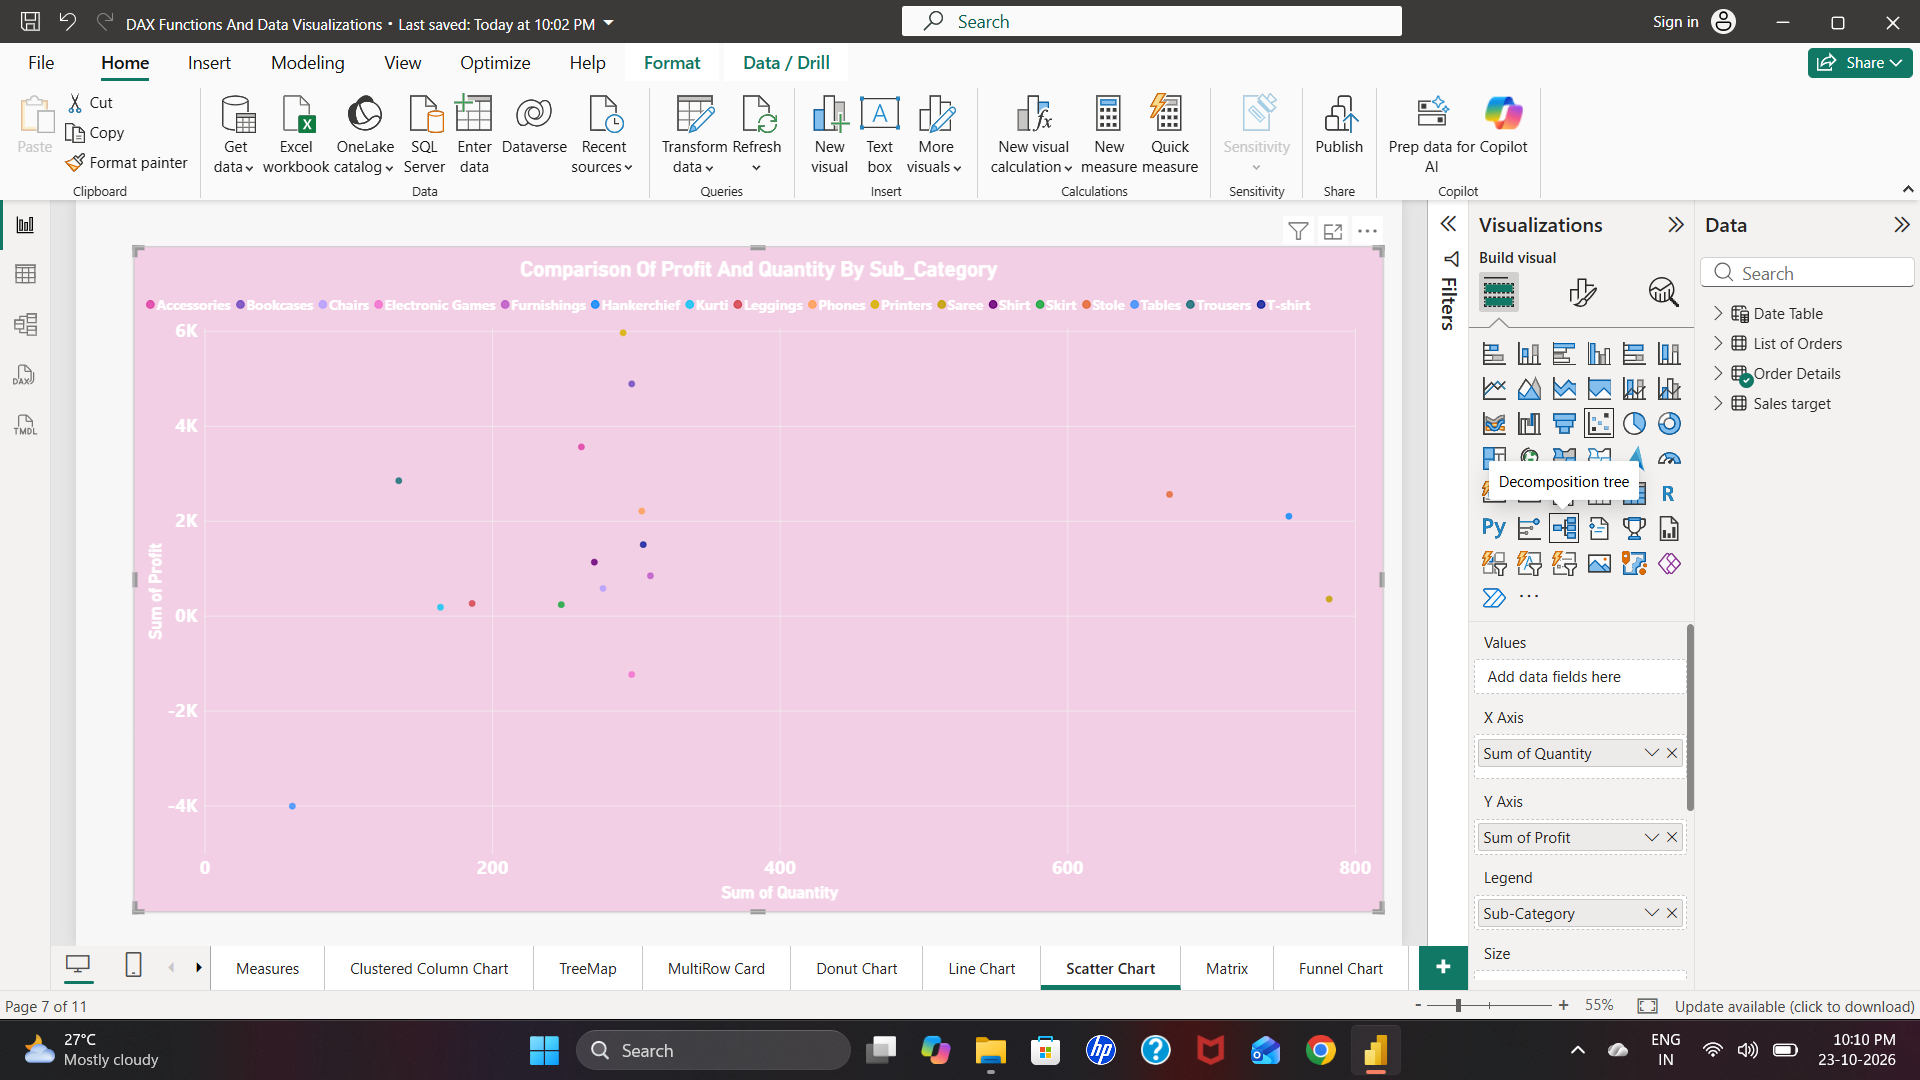

This screenshot's page, from the dashboard's own definition file:
{"tool":"powerbi","page":{"name":"Scatter Chart","canvas":[1920,1080],"ordinal":6},"visuals":[{"type":"scatterChart","title":"Comparison Of Profit And Quantity By Sub_Category","fields":{"Series":["Order Details.Sub-Category"],"X":["Sum(Order Details.Quantity)"],"Y":["Sum(Order Details.Profit)"]},"box":[83.2,67,1809.7,964.5],"z":0}]}

Visuals, with their boxes on the page's 1920x1080 design canvas (x1, y1, x2, y2). These are canvas units, not pixel positions in the 1920x1080 screenshot, which may show the page scaled, cropped or inside an application window:
"Comparison Of Profit And Quantity By Sub_Category" scatterChart: [x1=83, y1=67, x2=1893, y2=1032]
